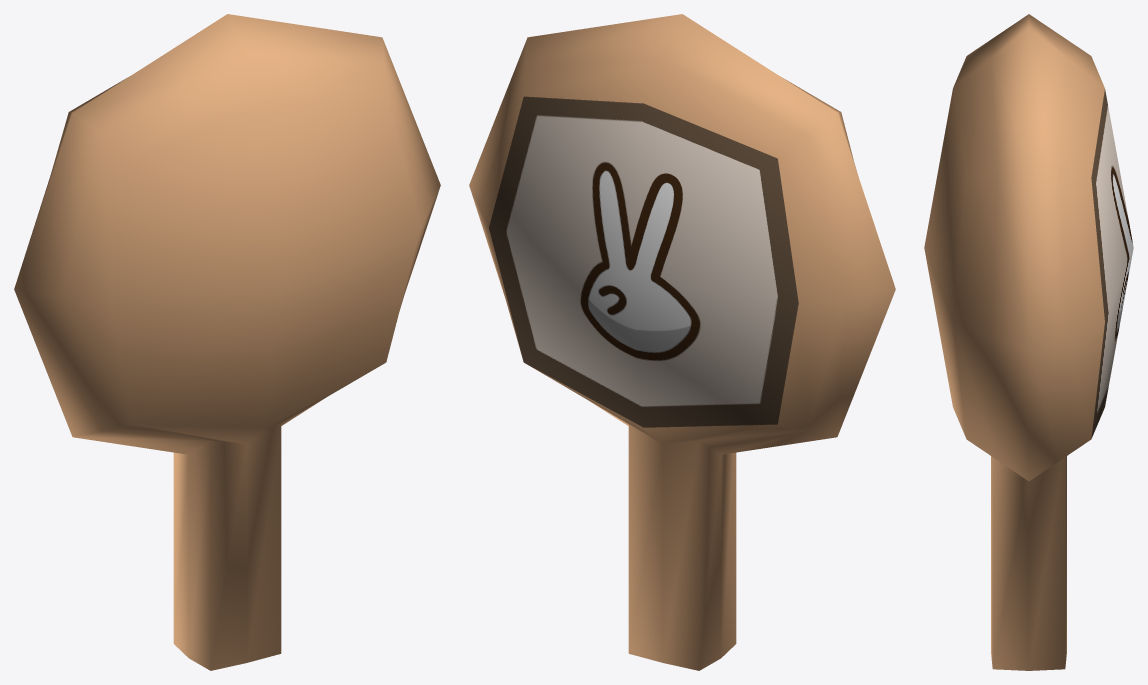
The model's file is Brand_scissors.fbx.
The picture shows the model from 3 angles, left to right: view 1: azimuth 30°, elevation 25°; view 2: azimuth 150°, elevation 25°; view 3: azimuth 270°, elevation 25°; orthographic projection.
Parts seen in each view (by area): view 1: Cube.001; view 2: Cube.001; view 3: Cube.001.
Boxes of the visible parts, <box> form: Cube.001: <box>14,14,440,670</box>; Cube.001: <box>469,14,895,670</box>; Cube.001: <box>924,14,1133,670</box>.
Size of the model in its own units: 168 by 239 by 72.58.
1 material, 1 textured.
